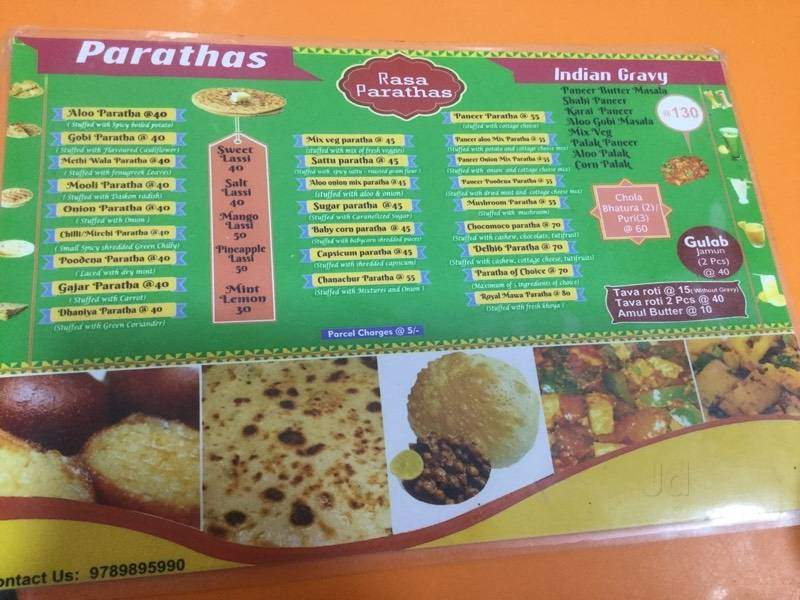aloo_paratha: (205, 358, 378, 541)
